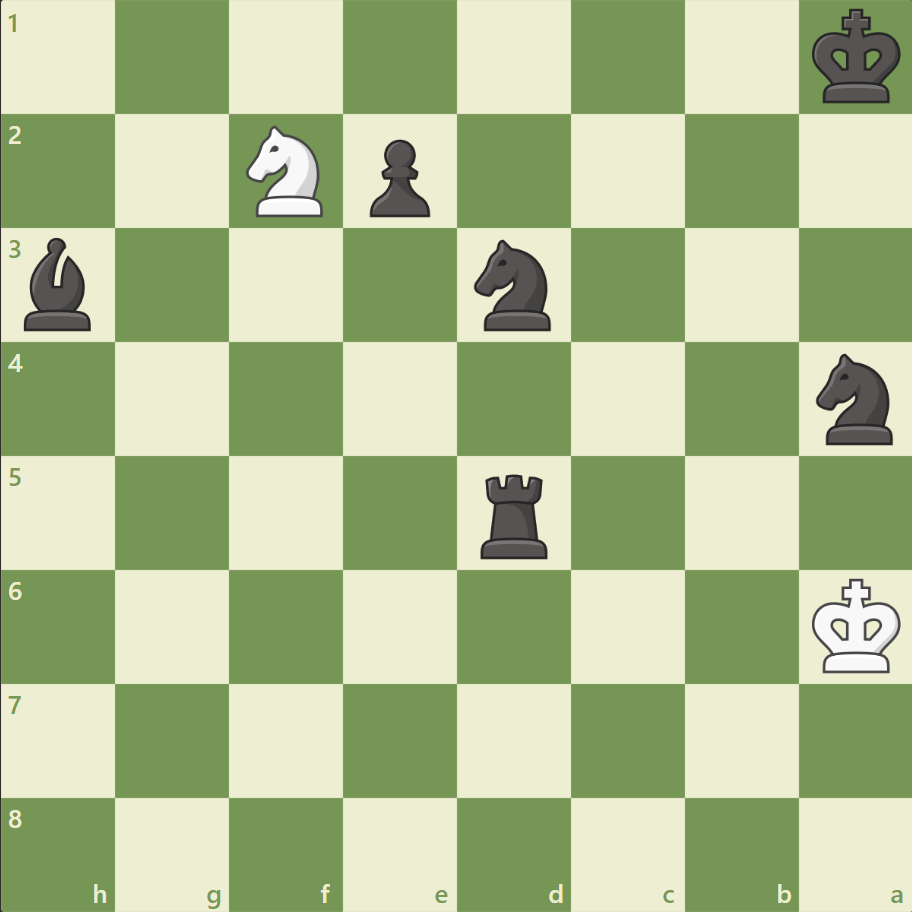K: (806, 571, 906, 679)
N: (238, 121, 335, 223)
b: (17, 233, 101, 336)
k: (806, 4, 906, 112)
n: (465, 234, 562, 337), (806, 348, 903, 450)
p: (361, 132, 435, 223)
r: (473, 466, 556, 563)
